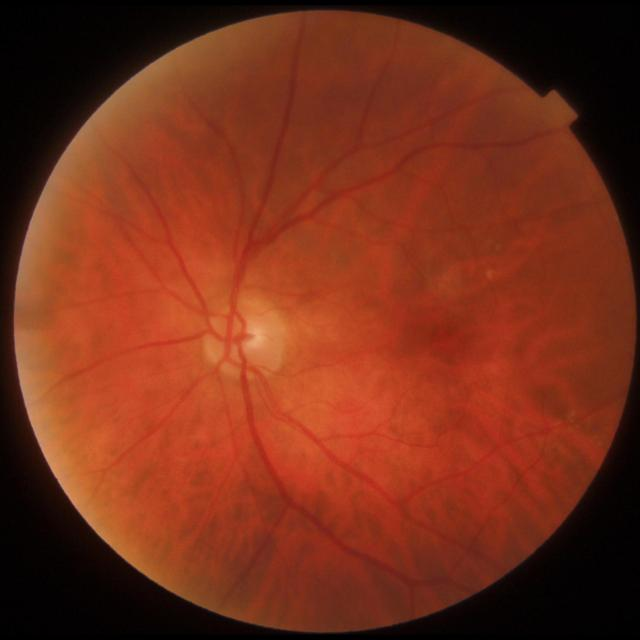OC: (237, 322, 265, 351)
OD: (207, 302, 286, 378)
